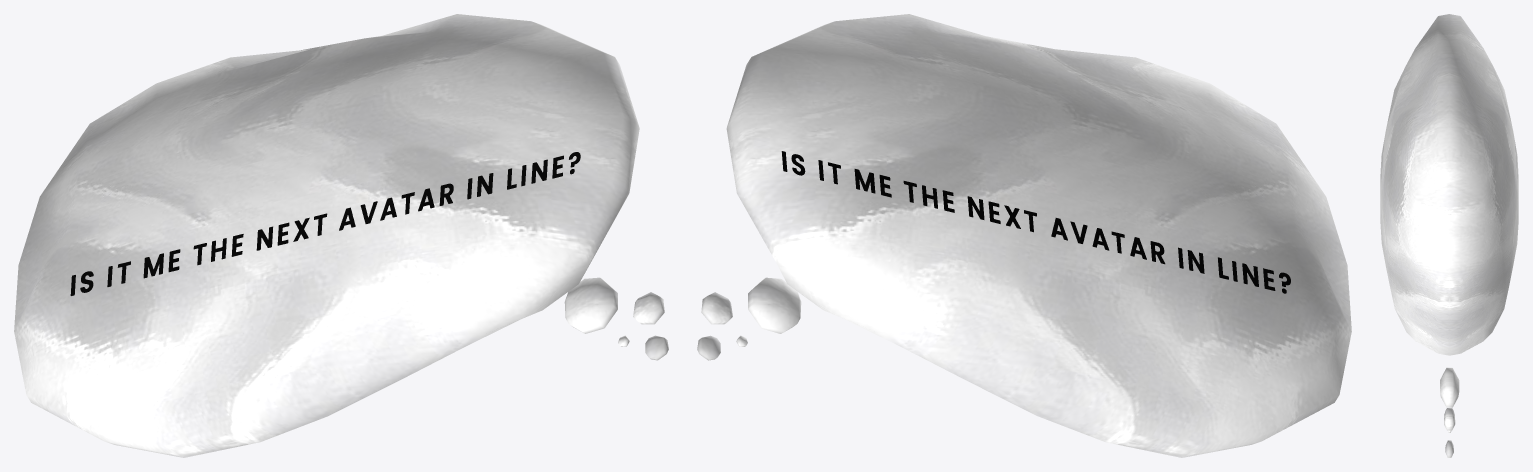
The model's file is s0_AG_BillboardText_04_Art_01.glb.
3 renders of one model, left to right at view 1: azimuth 30°, elevation 25°; view 2: azimuth 150°, elevation 25°; view 3: azimuth 270°, elevation 25°, orthographic. The views are drawn at different scales.
Parts seen in each view (by area): view 1: node_AG_BillboardText_04_Art; view 2: node_AG_BillboardText_04_Art; view 3: node_AG_BillboardText_04_Art.
Boxes of the visible parts, x1=… form: node_AG_BillboardText_04_Art: x1=14, y1=14, x2=668, y2=457; node_AG_BillboardText_04_Art: x1=697, y1=14, x2=1351, y2=457; node_AG_BillboardText_04_Art: x1=1380, y1=14, x2=1518, y2=457.
Bounding box in the file's own units: 2.31 × 1.36 × 0.6184.
2 materials, 2 textured.
